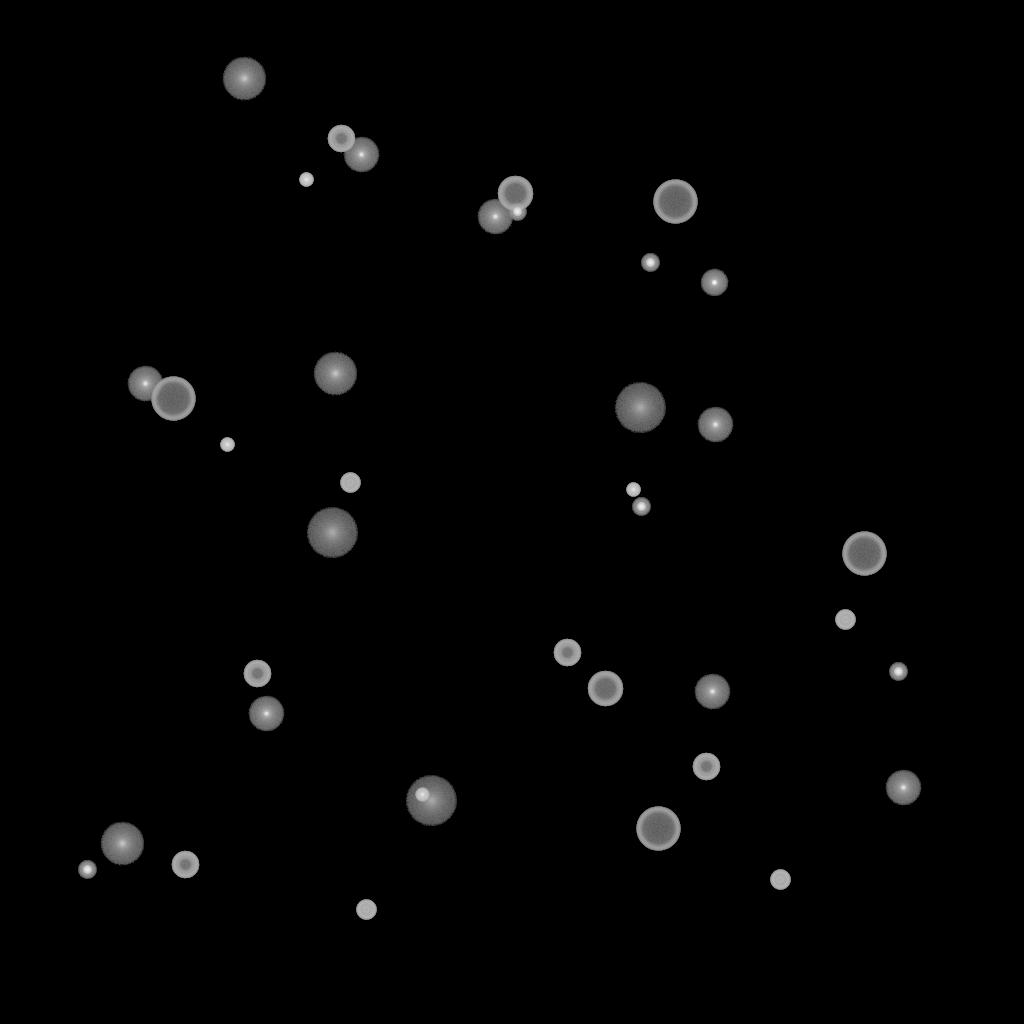depth:-10: (700, 269, 728, 297)
depth:-20: (632, 498, 650, 516), (641, 254, 659, 272), (508, 203, 526, 221), (78, 861, 96, 879), (889, 663, 907, 681)
depth:-30: (220, 438, 234, 452), (626, 483, 640, 497), (299, 173, 313, 187), (415, 788, 429, 802)
depth:-40: (340, 473, 360, 493), (356, 900, 376, 920), (770, 870, 790, 890), (835, 610, 855, 630)
depth:-50: (171, 851, 199, 879), (692, 753, 720, 781), (243, 660, 271, 688), (553, 639, 581, 667), (327, 125, 355, 153)
depth:-60: (497, 176, 533, 212), (587, 671, 623, 707)
depth:-70: (151, 377, 195, 421), (636, 807, 680, 851), (653, 180, 697, 224), (842, 532, 886, 576)
depth:0: (694, 674, 730, 710), (127, 366, 163, 402), (343, 137, 379, 173), (885, 770, 921, 806), (248, 696, 284, 732), (477, 199, 513, 235), (697, 407, 733, 443)
depth:10: (100, 822, 144, 866), (222, 57, 266, 101), (313, 352, 357, 396)
depth:20: (405, 776, 457, 826), (306, 508, 358, 558), (614, 383, 666, 433)
